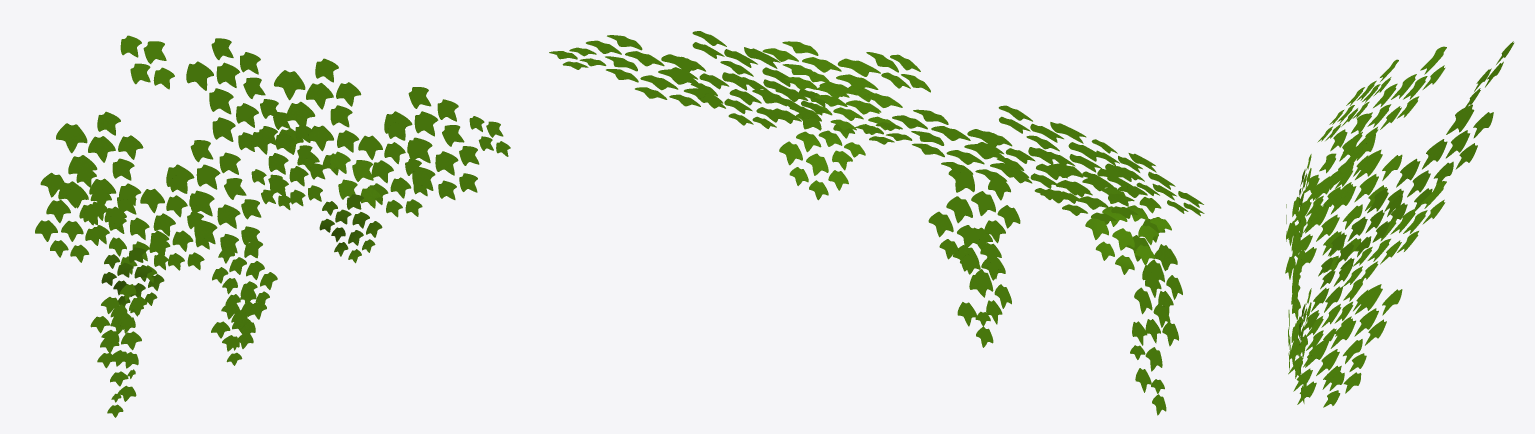
File: vine-6.glb
The picture shows the model from 3 angles, left to right: view 1: azimuth 30°, elevation 25°; view 2: azimuth 150°, elevation 25°; view 3: azimuth 270°, elevation 25°; orthographic projection. The views are drawn at different scales.
Parts seen in each view (by area): view 1: Prop_Vine6; view 2: Prop_Vine6; view 3: Prop_Vine6.
Boxes of the visible parts, bbox=[...] form: Prop_Vine6: bbox=[35, 35, 510, 417]; Prop_Vine6: bbox=[549, 31, 1204, 415]; Prop_Vine6: bbox=[1285, 41, 1514, 407].
Bounding box in the file's own units: 4.14 × 2.47 × 1.47.
Materials: 1 (1 with a texture image).
